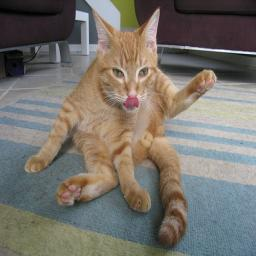catnose: (126, 88, 138, 98)
